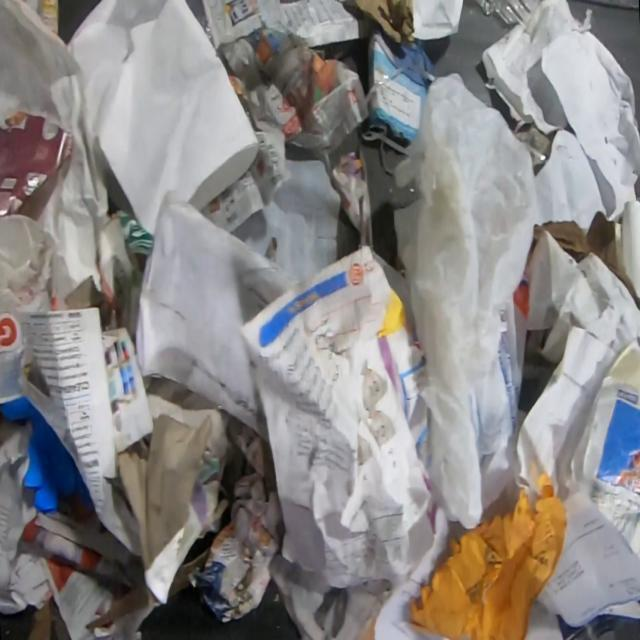cardboard: (0, 306, 142, 559), (408, 458, 570, 640), (102, 326, 155, 455), (84, 583, 162, 630), (344, 0, 416, 44), (167, 545, 210, 599)
rigid_plastic: (360, 121, 408, 176), (474, 0, 544, 28)
soft_plastic: (393, 70, 542, 529)
